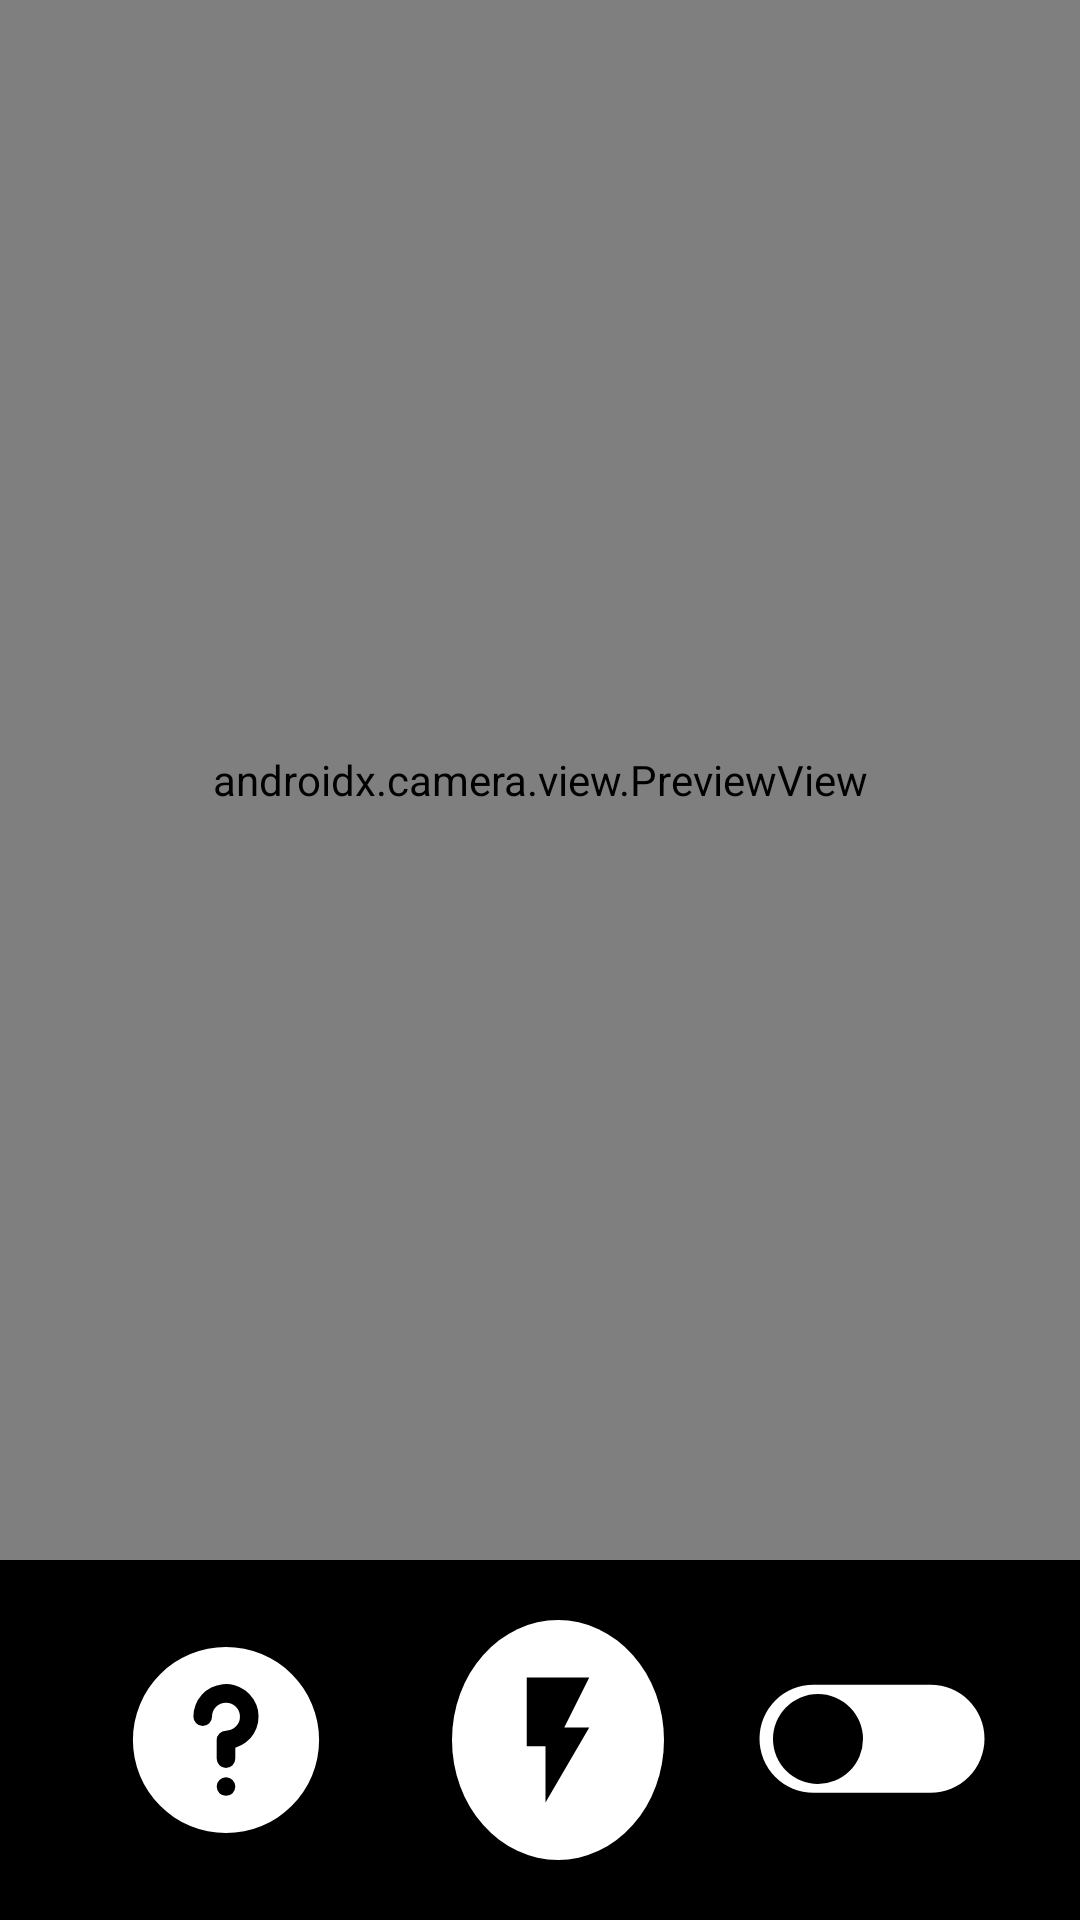

Icons on this 1080px×1920px Android screen, each with its box as region(x1, y1, x2, y2):
flashlight: region(452, 1620, 664, 1860)
help: region(133, 1647, 319, 1833)
